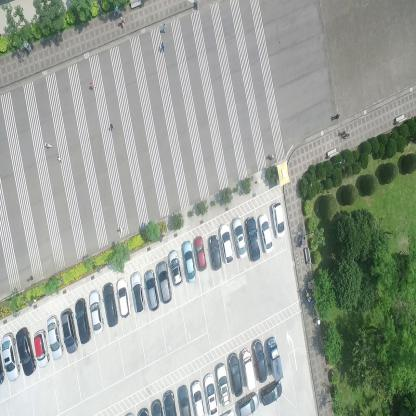car: (16, 328, 37, 376), (74, 295, 92, 345), (2, 333, 20, 381), (60, 308, 78, 354), (46, 315, 64, 361), (88, 288, 104, 336), (130, 268, 146, 315), (155, 260, 172, 304), (267, 337, 284, 381), (102, 282, 118, 328), (245, 214, 260, 263), (252, 338, 269, 381), (231, 216, 247, 260), (219, 221, 235, 265), (181, 240, 197, 284), (144, 268, 160, 312), (228, 352, 243, 398), (258, 212, 274, 255), (203, 372, 219, 415), (216, 364, 232, 406), (167, 247, 183, 288), (241, 346, 256, 389), (34, 329, 50, 368), (116, 278, 131, 318), (271, 201, 286, 239), (261, 379, 282, 406), (236, 390, 258, 415), (191, 379, 206, 415), (193, 234, 207, 271), (209, 232, 222, 271), (178, 386, 191, 416), (164, 390, 176, 415)
